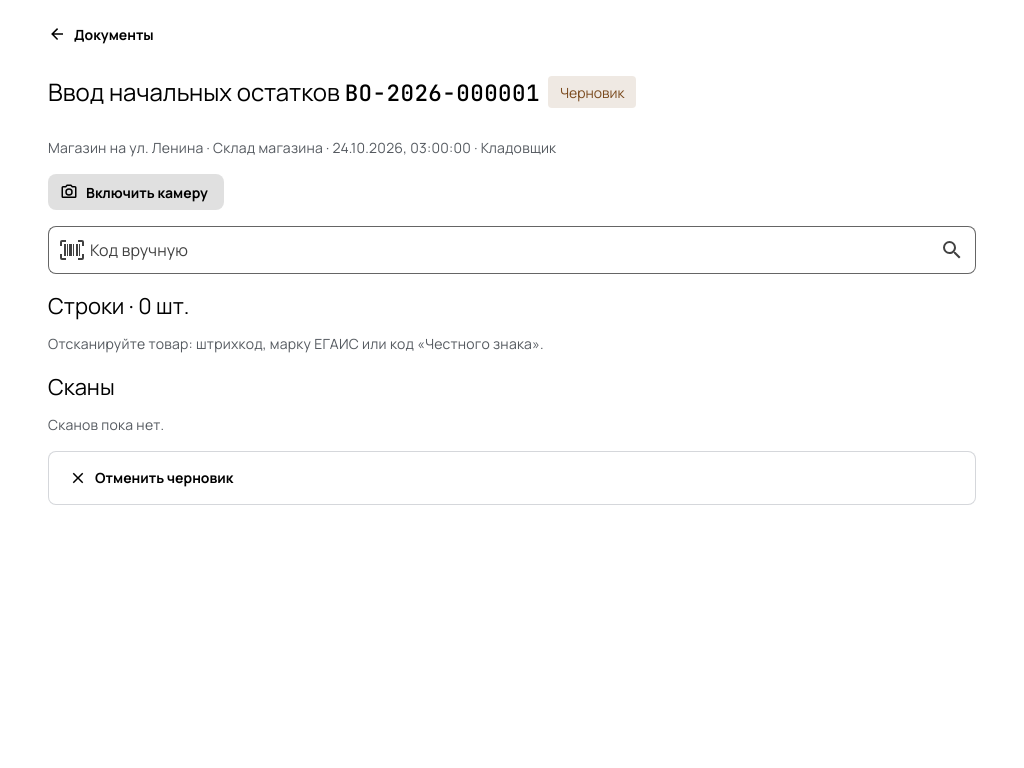
DocumentPage › чужая марка — красный исход с причиной и сигнал ошибки
This screenshot has width=1024, height=768.
Type "PKN0000000000009" into the field labelled "Код вручную". click: (512, 250)
box: [84,226,940,274]
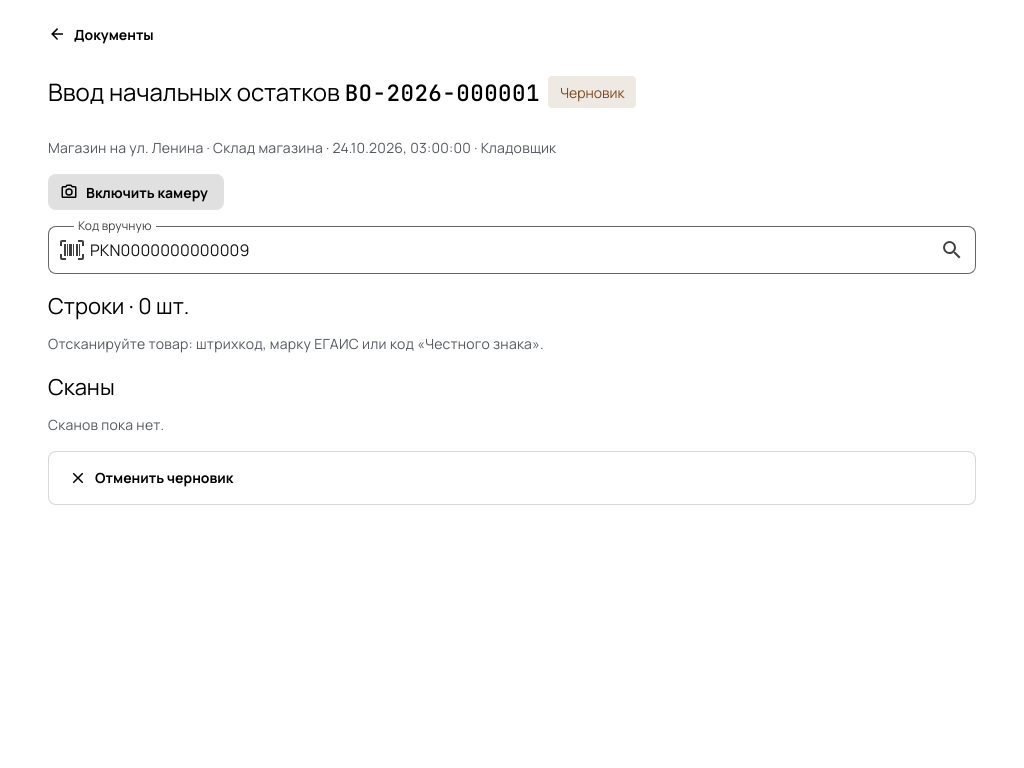
Submit the form, box [48,226,976,274]
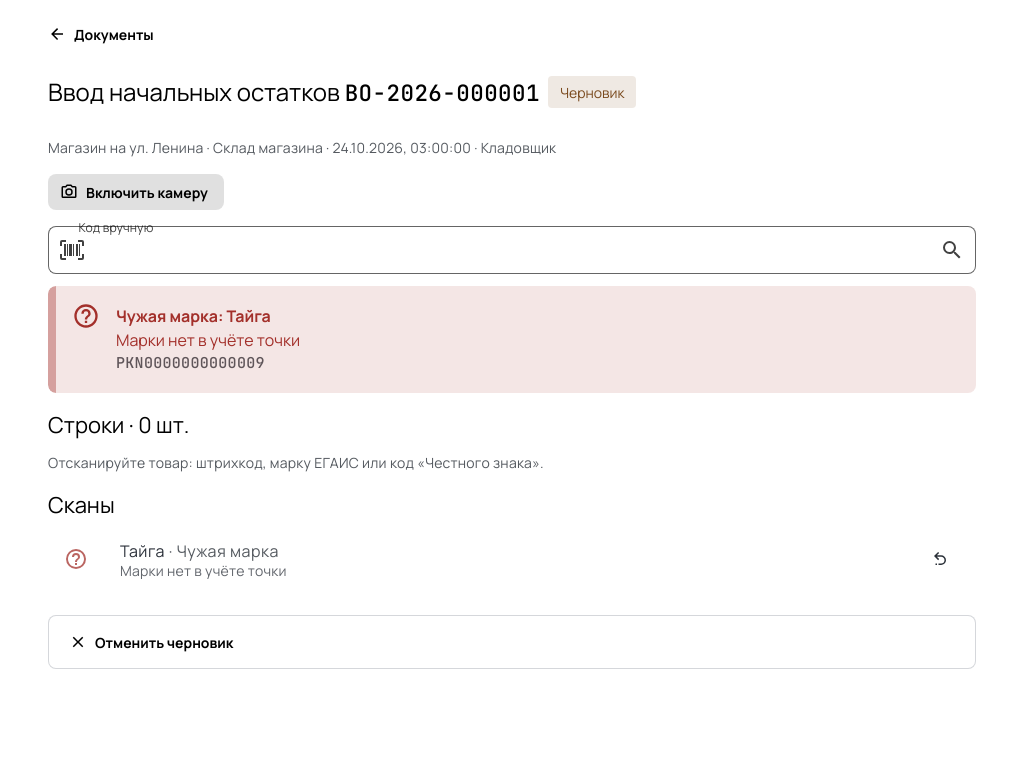
Expected: the element with test id "last-scan" shows "Марки нет в учёте точки", [116,329,300,351]
